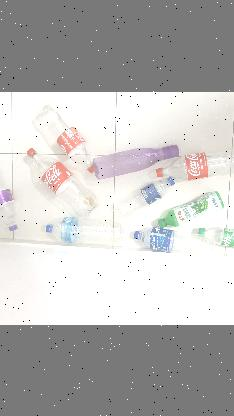Plastic Bottle: (24, 108, 96, 216), (89, 126, 187, 186), (142, 188, 224, 232), (30, 216, 126, 250), (111, 174, 175, 224), (122, 230, 214, 258), (183, 142, 234, 185), (0, 148, 21, 248), (189, 225, 234, 253)
